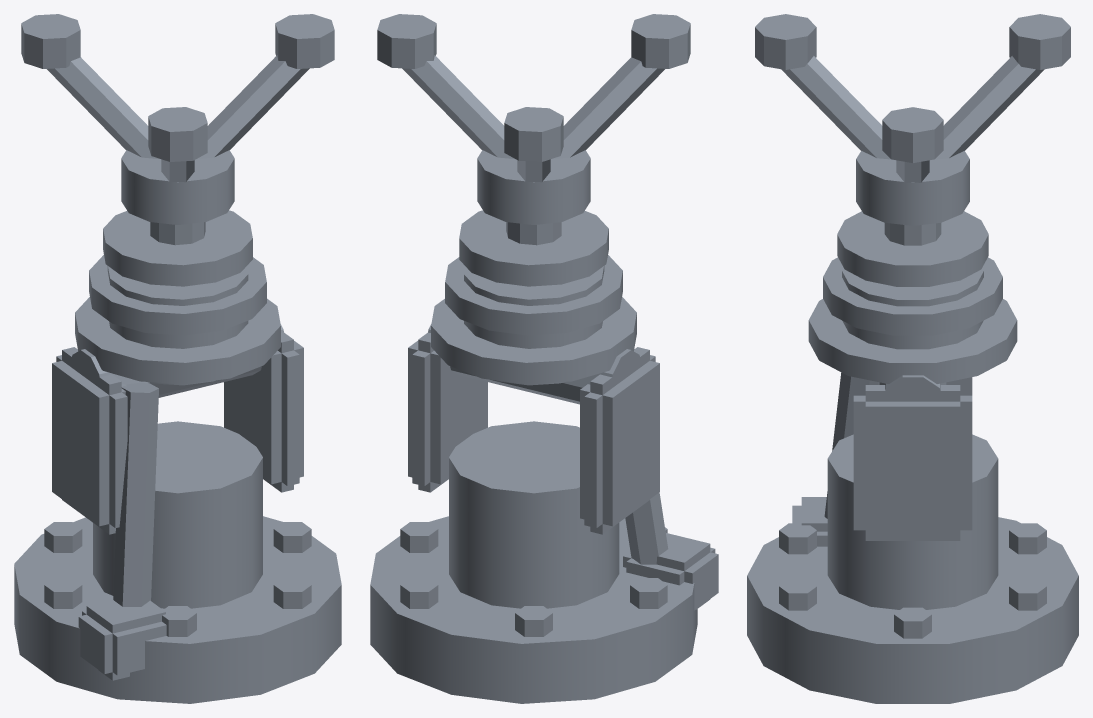
Rendered from armor_shield_emitter.glb.
The picture shows the model from 3 angles, left to right: view 1: azimuth 30°, elevation 25°; view 2: azimuth 150°, elevation 25°; view 3: azimuth 270°, elevation 25°; orthographic projection.
Parts seen in each view (by area): view 1: armor_shield_emitter; view 2: armor_shield_emitter; view 3: armor_shield_emitter.
Boxes of the visible parts, x1=… form: armor_shield_emitter: x1=14, y1=14, x2=341, y2=703; armor_shield_emitter: x1=370, y1=14, x2=718, y2=703; armor_shield_emitter: x1=747, y1=14, x2=1078, y2=703.
Bounding box in the file's own units: 0.1432 × 0.269 × 0.14.
